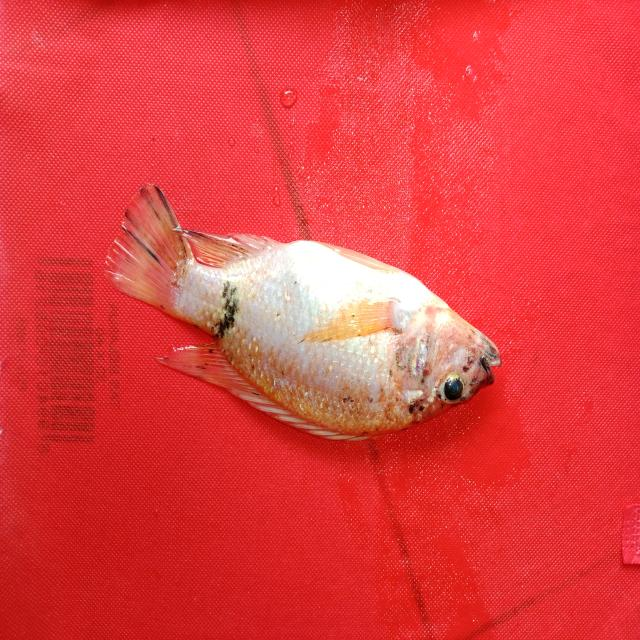ikan: (92, 165, 524, 477)
